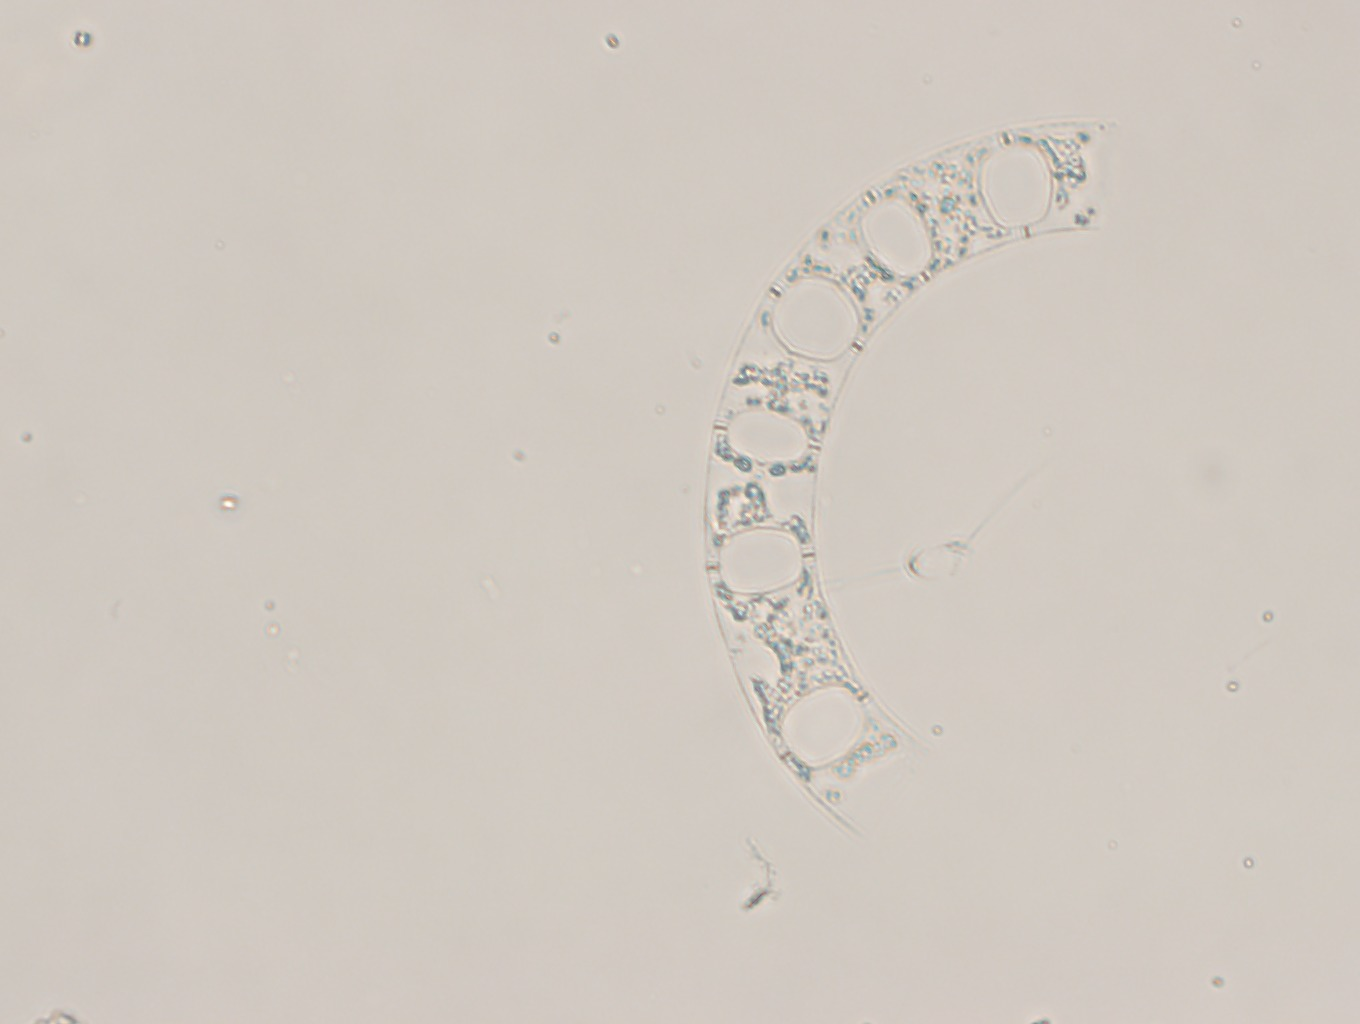eucampia: (690, 110, 1123, 839)
